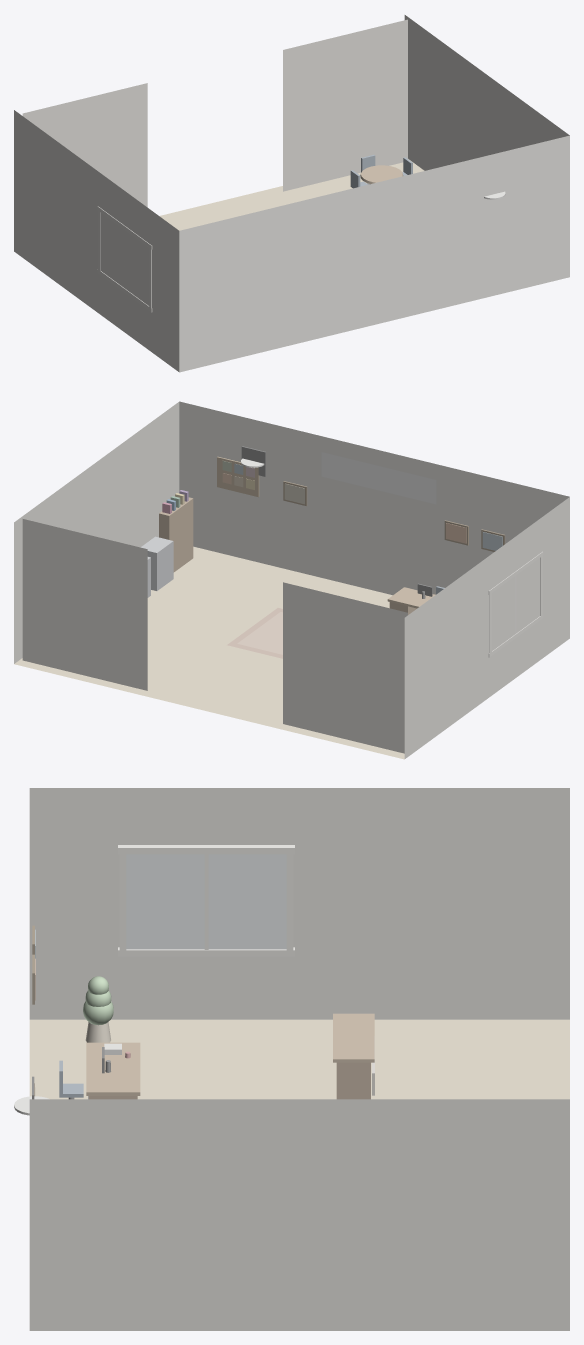
3 views of the same model, one above another, from view 1: azimuth 30°, elevation 25°; view 2: azimuth 150°, elevation 25°; view 3: azimuth 270°, elevation 25° (orthographic). The views are drawn at different scales.
Size of the model in its own units: 15.02 by 5.2 by 11.32.
